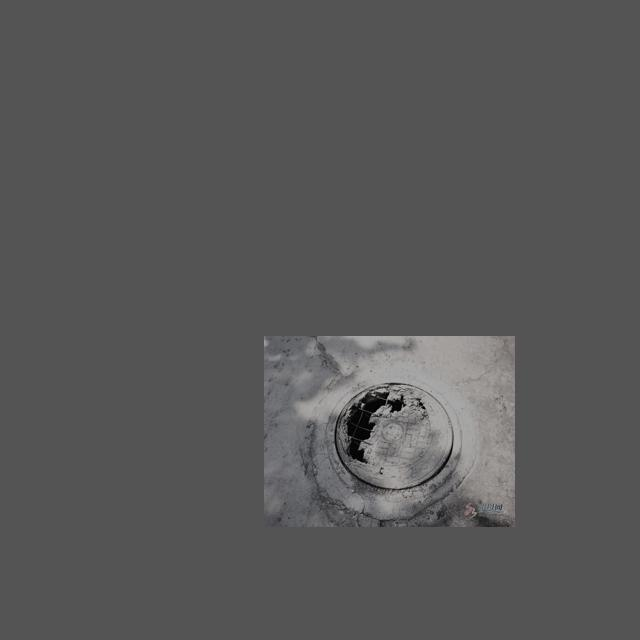broke: (299, 371, 485, 513)
